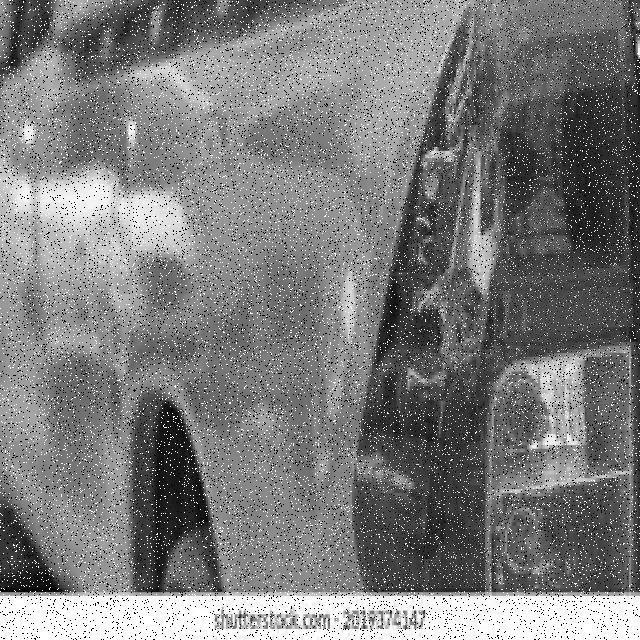Taillight-Damage: (348, 1, 638, 600)
